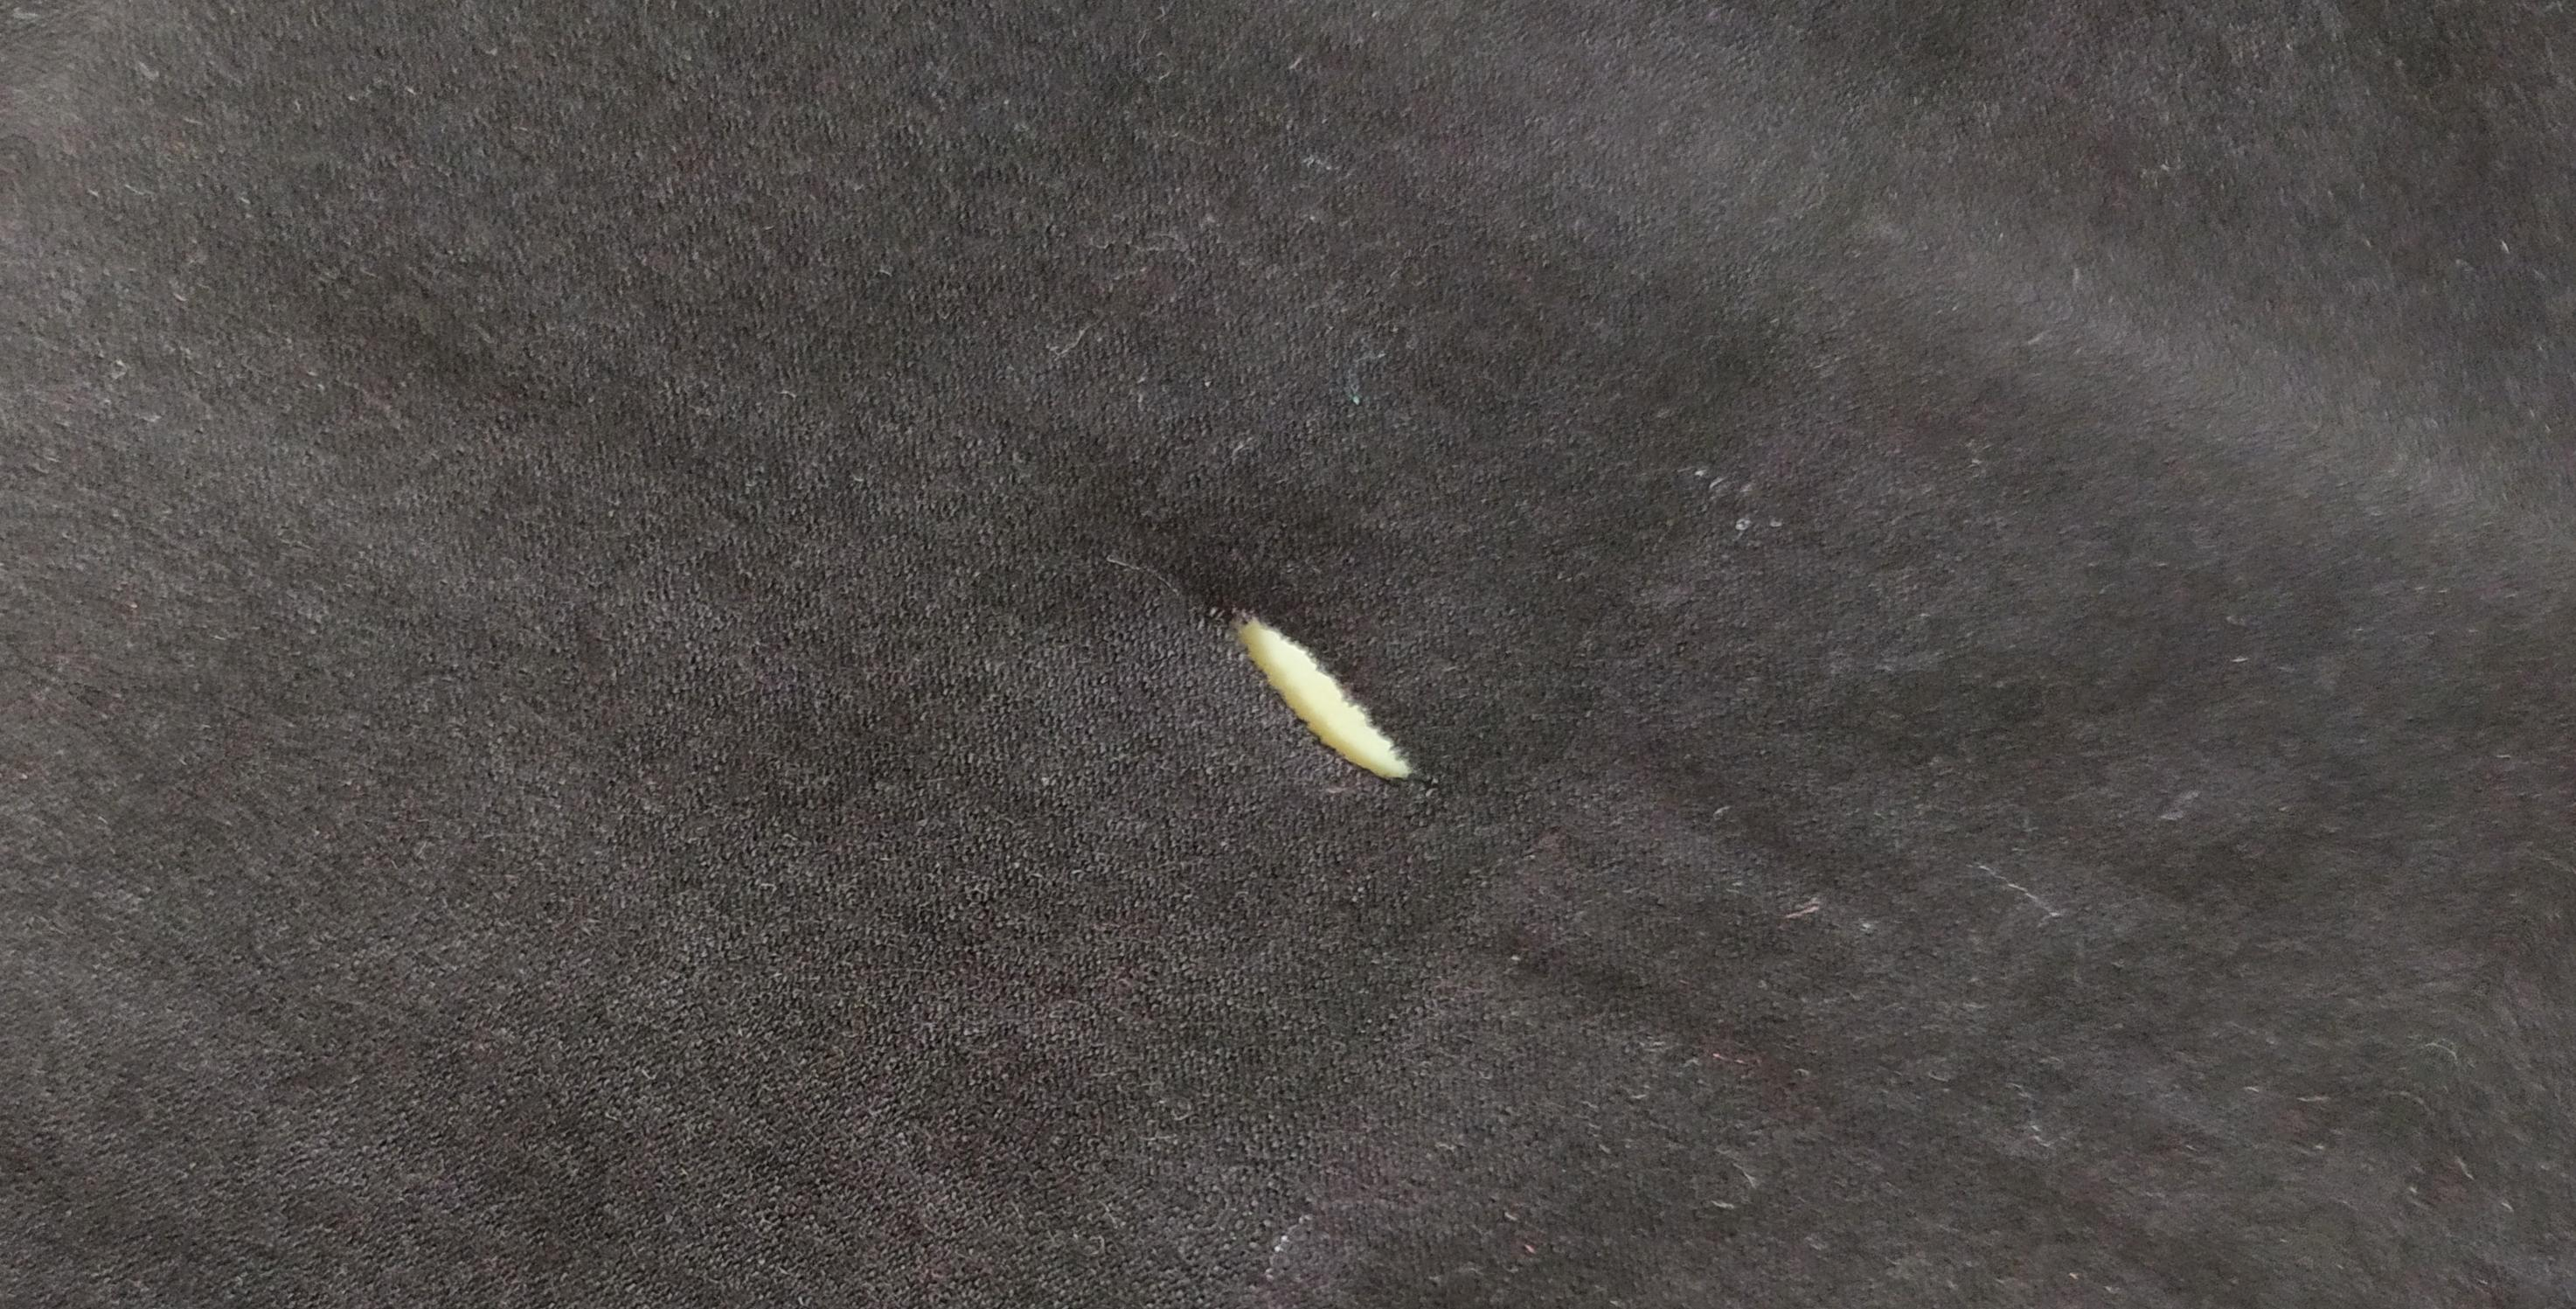hole: (1220, 579, 1433, 810)
